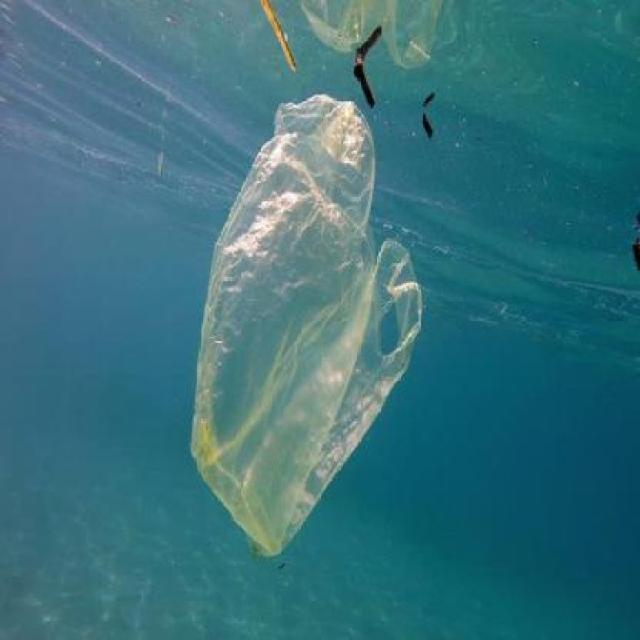plastic bag: (190, 90, 422, 558)
